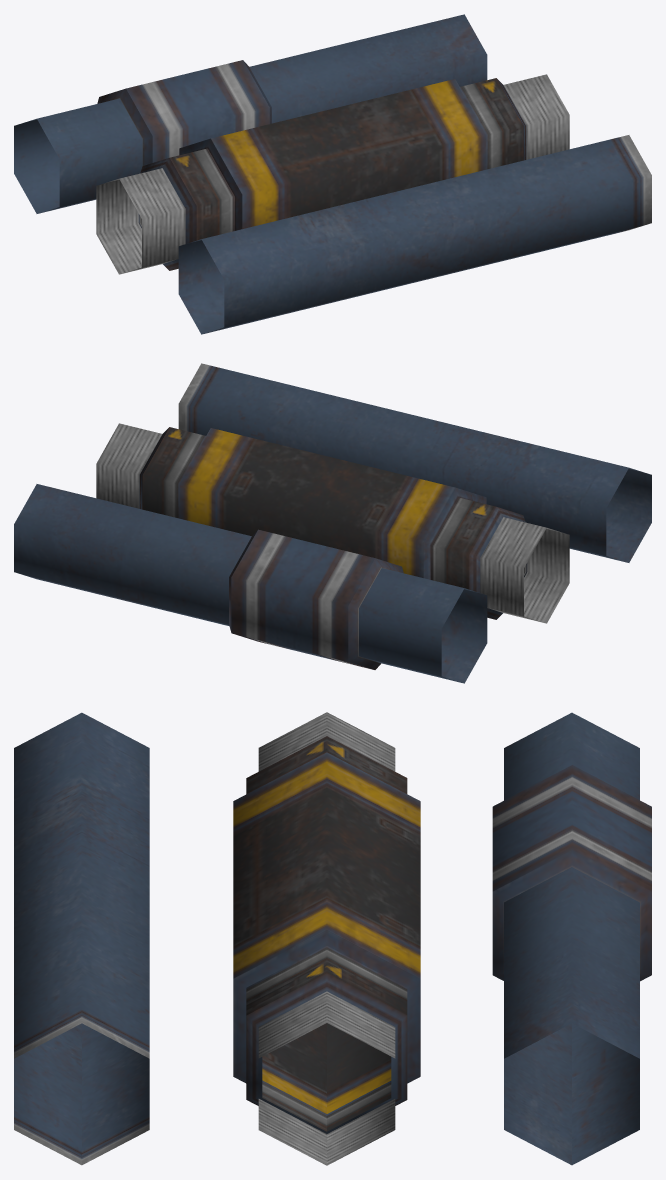
The model's file is PIpe3_Small_L1.fbx.
3 renders of one model, top to bottom at view 1: azimuth 30°, elevation 25°; view 2: azimuth 150°, elevation 25°; view 3: azimuth 270°, elevation 25°, orthographic. The views are drawn at different scales.
Parts seen in each view (by area): view 1: PIpe3_Small_L1; view 2: PIpe3_Small_L1; view 3: PIpe3_Small_L1.
Part boxes in pixels (x1,y1,x2,y2): PIpe3_Small_L1: (14, 14, 651, 334); PIpe3_Small_L1: (14, 363, 651, 683); PIpe3_Small_L1: (14, 712, 651, 1165).
Bounding box in the file's own units: 50 × 14.7 × 43.38.
